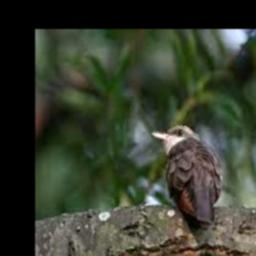Cuckoo: (151, 125, 223, 226)
